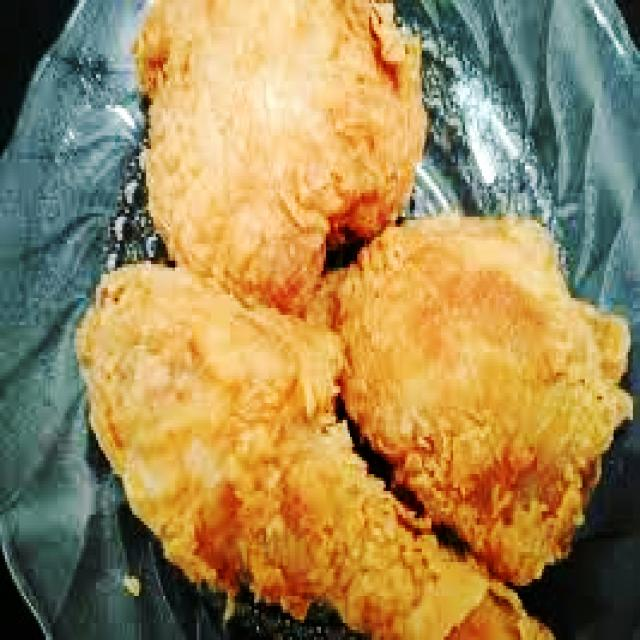fried_chicken: (76, 260, 553, 640), (328, 210, 633, 582), (141, 0, 429, 315)
